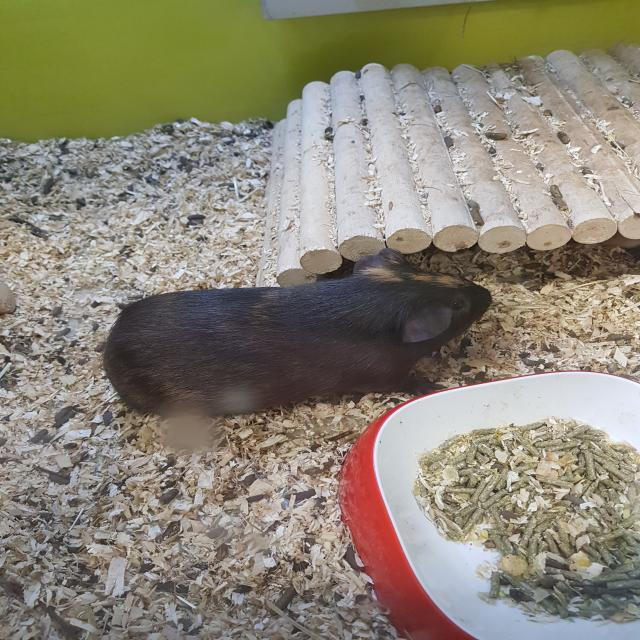guinea pig: (101, 248, 494, 422)
